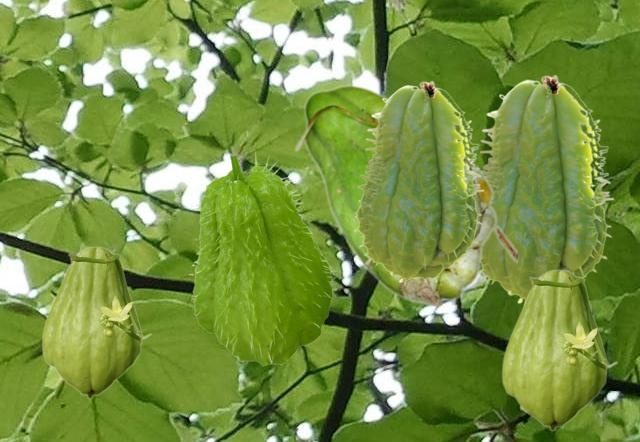sayote: (293, 84, 516, 307), (188, 151, 336, 365), (479, 74, 613, 304), (353, 80, 483, 285), (501, 269, 617, 430), (41, 246, 151, 398)
